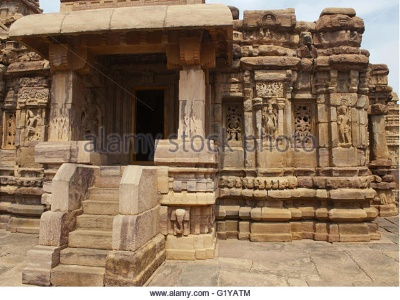mandapa: (16, 5, 249, 159)
